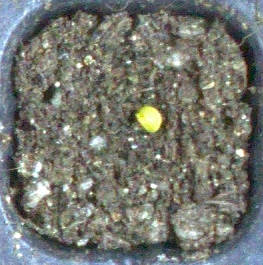chilli seed: (135, 105, 161, 133)
